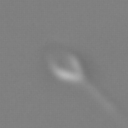normal: (82, 78, 128, 128)
